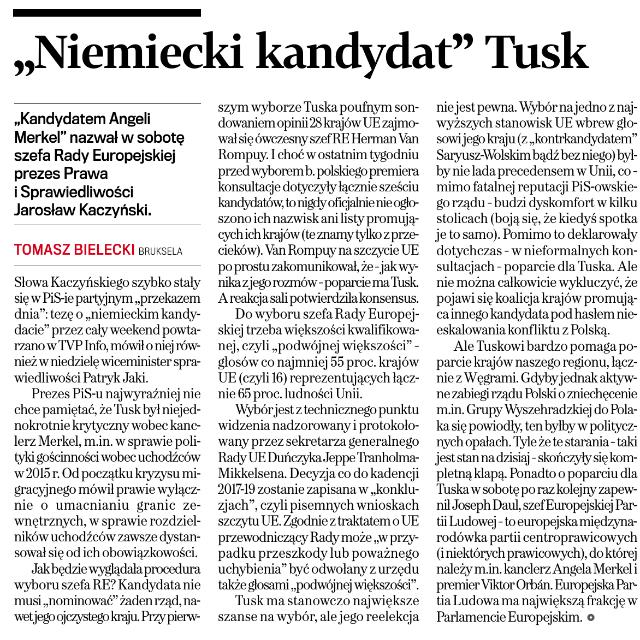author: (10, 232, 138, 260)
body: (212, 97, 426, 629), (432, 95, 640, 631), (8, 268, 204, 628)
lead: (6, 105, 190, 222)
title: (11, 18, 604, 90)
